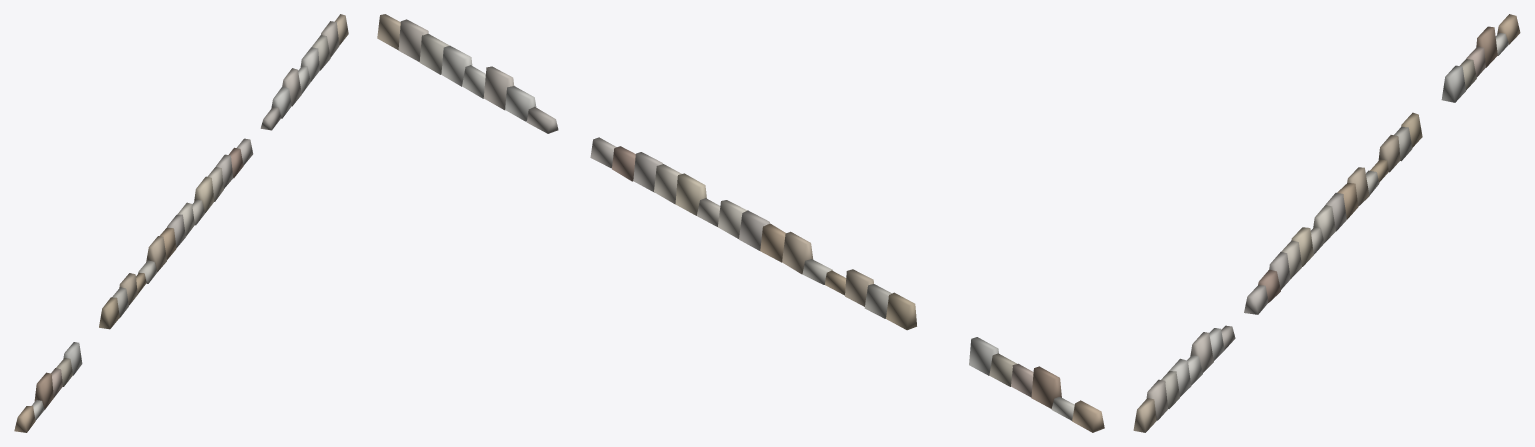
File: farm_-30_-23_far.glb
The picture shows the model from 3 angles, left to right: view 1: azimuth 90°, elevation 25°; view 2: azimuth 150°, elevation 25°; view 3: azimuth 270°, elevation 25°; orthographic projection. The views are drawn at different scales.
Parts seen in each view (by area): view 1: geometry_0; view 2: geometry_0; view 3: geometry_0.
Boxes of the visible parts, x1,y1,x2,y2 form: geometry_0: [14, 14, 348, 432]; geometry_0: [377, 14, 1104, 432]; geometry_0: [1133, 14, 1520, 432].
Size of the model in its own units: 48.92 by 3.02 by 18.49.
